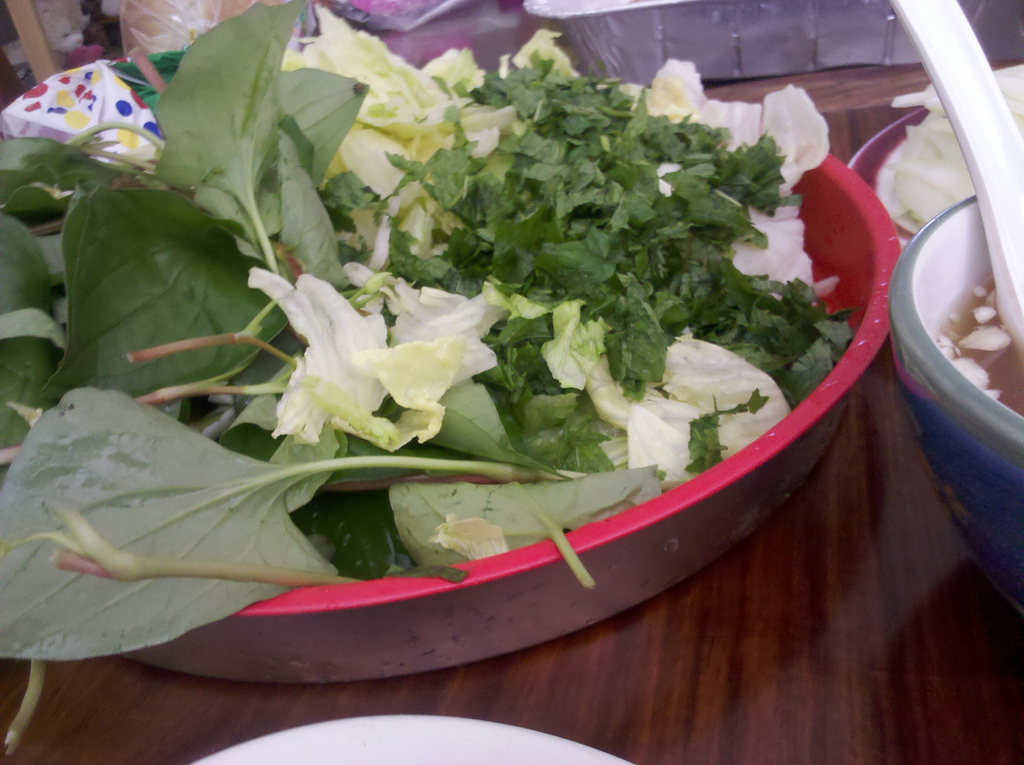chopped lettuce: (17, 36, 832, 624)
